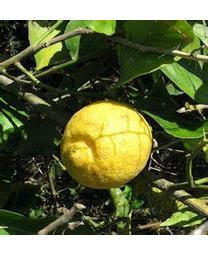lemon: (61, 105, 149, 189)
